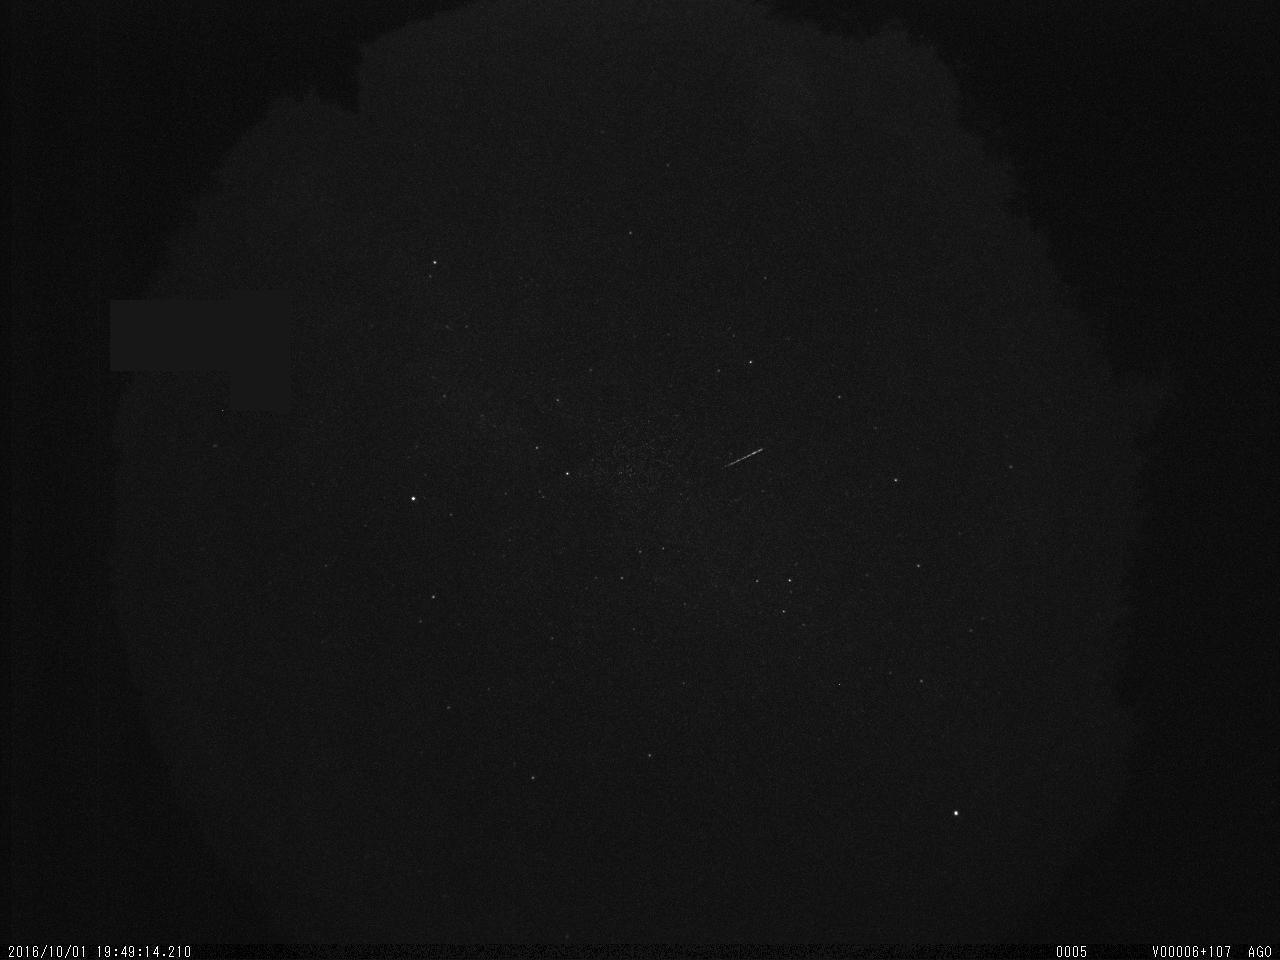Meteor: (724, 445, 765, 469)
